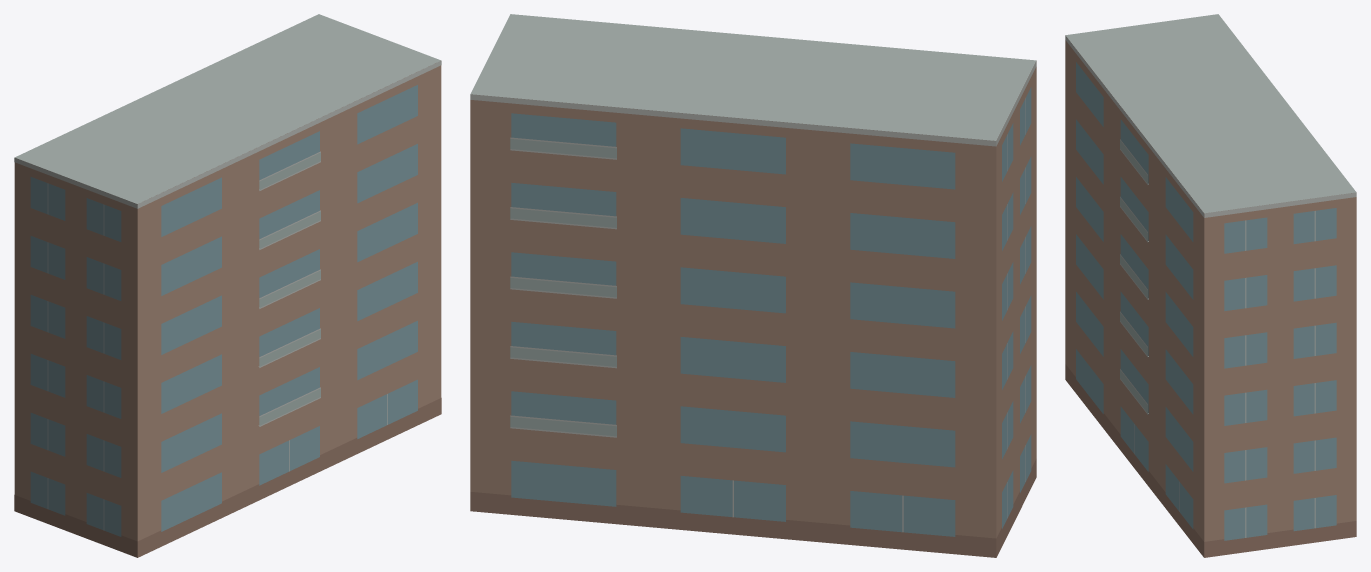
The model's file is survey-upis-32557682.glb.
3 renders of one model, left to right at view 1: azimuth 30°, elevation 25°; view 2: azimuth 150°, elevation 25°; view 3: azimuth 270°, elevation 25°, orthographic. The views are drawn at different scales.
Visible parts, largest first — view 1: survey-upis-32557682.tmp; view 2: survey-upis-32557682.tmp; view 3: survey-upis-32557682.tmp.
Part boxes in pixels (x1,y1,x2,y2): survey-upis-32557682.tmp: (14, 14, 441, 557); survey-upis-32557682.tmp: (470, 14, 1036, 557); survey-upis-32557682.tmp: (1065, 14, 1356, 557).
Bounding box in the file's own units: 22.73 × 18.3 × 14.03.
